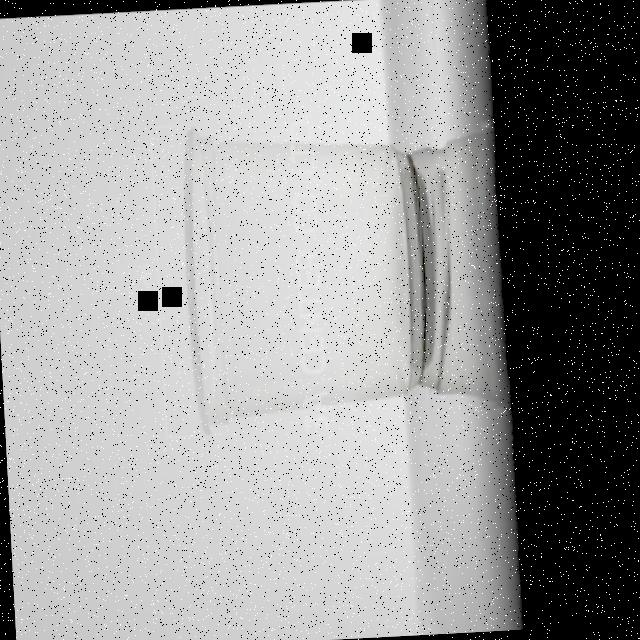plastic_box: (180, 118, 438, 431)
